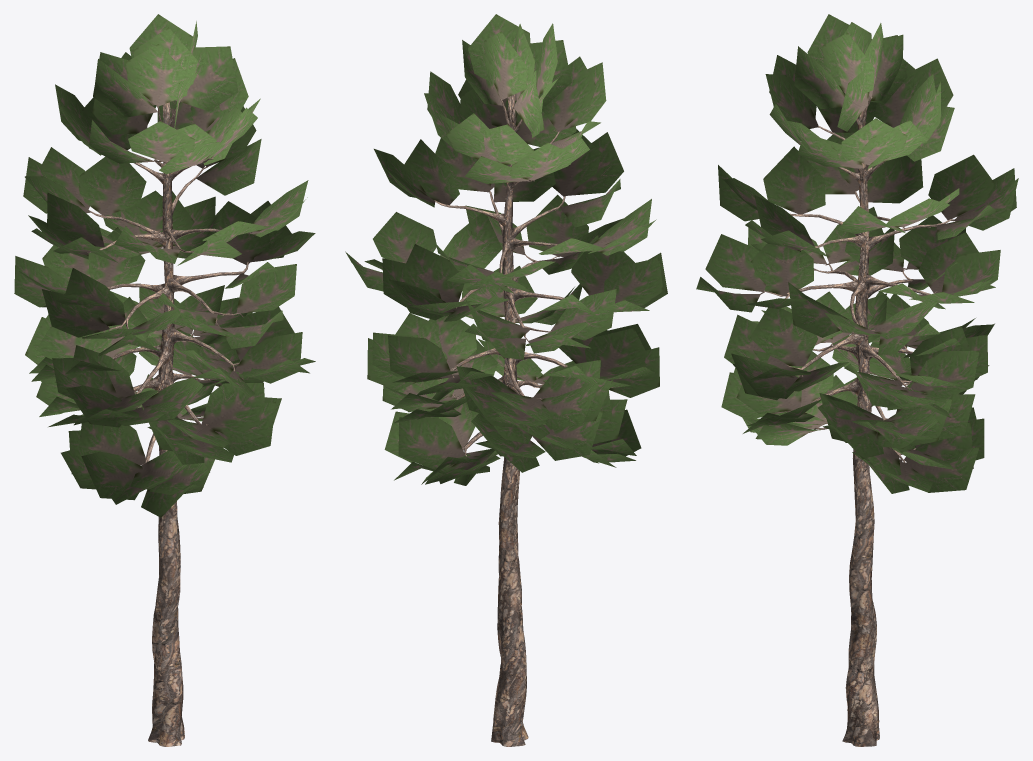
File: pine_tree.obj
3 views of the same model, side by side, from view 1: azimuth 30°, elevation 25°; view 2: azimuth 150°, elevation 25°; view 3: azimuth 270°, elevation 25° (orthographic).
Visible parts, largest first — view 1: Tree_1_Tree_1Mat_0, Tree_0_Tree_0Mat_0; view 2: Tree_1_Tree_1Mat_0, Tree_0_Tree_0Mat_0; view 3: Tree_1_Tree_1Mat_0, Tree_0_Tree_0Mat_0.
Boxes of the visible parts, <box> form: Tree_1_Tree_1Mat_0: <box>14,14,315,517</box>; Tree_0_Tree_0Mat_0: <box>88,100,252,746</box>; Tree_1_Tree_1Mat_0: <box>345,14,667,485</box>; Tree_0_Tree_0Mat_0: <box>434,94,598,746</box>; Tree_1_Tree_1Mat_0: <box>696,14,1018,493</box>; Tree_0_Tree_0Mat_0: <box>760,97,955,746</box>.
Bounding box in the file's own units: 2.18 × 5.32 × 2.17.
Materials: 2 (2 with a texture image).
